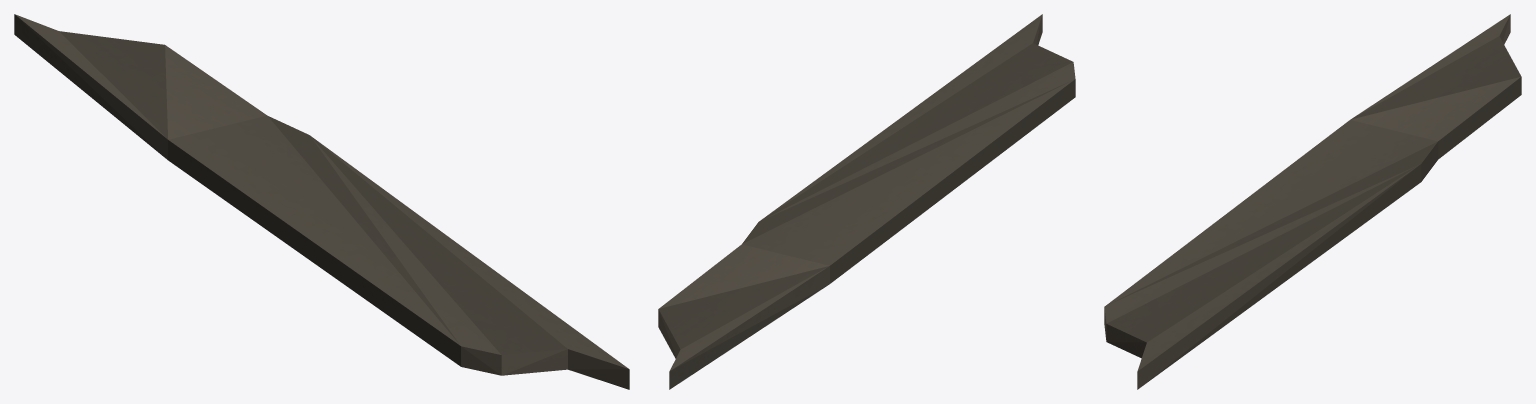
File: Wood_1F.fbx
3 views of the same model, side by side, from view 1: azimuth 30°, elevation 25°; view 2: azimuth 150°, elevation 25°; view 3: azimuth 330°, elevation 25° (orthographic). The views are drawn at different scales.
Parts seen in each view (by area): view 1: pCube996; view 2: pCube996; view 3: pCube996.
Part boxes in pixels (left/top/right/bottom): pCube996: left=14, top=14, right=629, bottom=389; pCube996: left=658, top=14, right=1075, bottom=389; pCube996: left=1104, top=14, right=1521, bottom=389.
Size of the model in its own units: 0.45 by 0.08 by 3.64.
